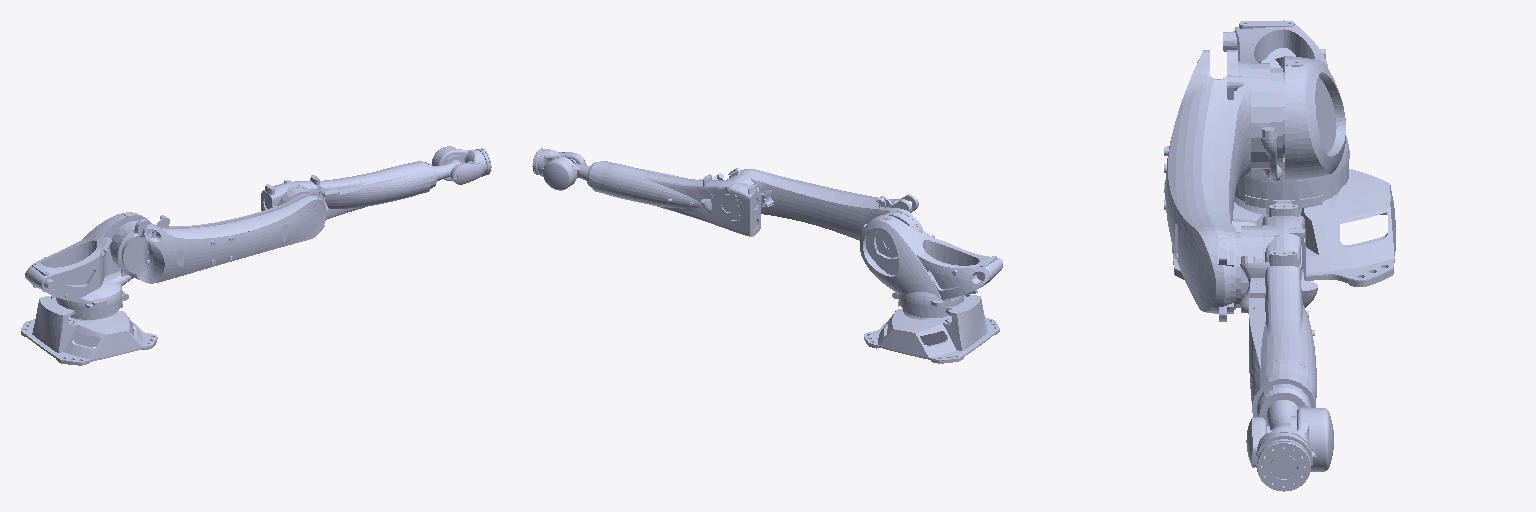
URDF robot description (kuka_kr210_r3100_ultra):
<?xml version="1.0" encoding="utf-8"?>
<!-- This URDF was automatically created by SolidWorks to URDF Exporter! Originally created by [author] ([email redacted]) 
     Commit Version: 1.6.0-1-g15f4949  Build Version: 1.6.7594.29634
     For more information, please see http://wiki.ros.org/sw_urdf_exporter -->
<robot
  name="kuka_kr210_r3100_ultra">
  <link
    name="base_arm">
    <inertial>
      <origin
        xyz="-0.0467922322585019 -2.48330200420791E-06 0.111800800953965"
        rpy="0 0 0" />
      <mass
        value="63.6935825343871" />
      <inertia
        ixx="1.981606913793"
        ixy="-0.000222775612545147"
        ixz="0.129669368793458"
        iyy="2.62338342950469"
        iyz="-0.000477152857139574"
        izz="4.03551831307329" />
    </inertial>
    <visual>
      <origin
        xyz="0 0 0"
        rpy="0 0 0" />
      <geometry>
        <mesh
          filename="package://kuka_kr210_r3100_ultra/meshes/base_arm.STL" />
      </geometry>
      <material
        name="">
        <color
          rgba="0.792156862745098 0.819607843137255 0.933333333333333 1" />
      </material>
    </visual>
    <collision>
      <origin
        xyz="0 0 0"
        rpy="0 0 0" />
      <geometry>
        <mesh
          filename="package://kuka_kr210_r3100_ultra/meshes/base_arm.STL" />
      </geometry>
    </collision>
  </link>

  <link
    name="link_1">
    <inertial>
      <origin
        xyz="-0.015271 0.0092735 0.22938"
        rpy="0 0 0" />
      <mass
        value="74.64" />
      <inertia
        ixx="2.5544"
        ixy="-0.30146"
        ixz="-0.11033"
        iyy="4.6863"
        iyz="-0.090657"
        izz="3.9517" />
    </inertial>
    <visual>
      <origin
        xyz="0 0 0"
        rpy="0 0 0" />
      <geometry>
        <mesh
          filename="package://kuka_kr210_r3100_ultra/meshes/link_1.STL" />
      </geometry>
      <material
        name="">
        <color
          rgba="0.79216 0.81961 0.93333 1" />
      </material>
    </visual>
    <collision>
      <origin
        xyz="0 0 0"
        rpy="0 0 0" />
      <geometry>
        <mesh
          filename="package://kuka_kr210_r3100_ultra/meshes/link_1.STL" />
      </geometry>
    </collision>
  </link>
  <joint
    name="joint_a1"
    type="revolute">
    <origin
      xyz="0 0 0.2256"
      rpy="0 0 0" />
    <parent
      link="base_arm" />
    <child
      link="link_1" />
    <axis
      xyz="0 0 1" />
    <limit
      lower="-3.14"
      upper="3.14"
      effort="100"
      velocity="1" />
  </joint>
  <link
    name="link_2">
    <inertial>
      <origin
        xyz="0.52514 -0.25673 -0.0060316"
        rpy="0 0 0" />
      <mass
        value="112.47" />
      <inertia
        ixx="2.0581"
        ixy="2.2406"
        ixz="0.037882"
        iyy="23.941"
        iyz="-0.012257"
        izz="24.191" />
    </inertial>
    <visual>
      <origin
        xyz="0 0 0"
        rpy="0 0 0" />
      <geometry>
        <mesh
          filename="package://kuka_kr210_r3100_ultra/meshes/link_2.STL" />
      </geometry>
      <material
        name="">
        <color
          rgba="0.79216 0.81961 0.93333 1" />
      </material>
    </visual>
    <collision>
      <origin
        xyz="0 0 0"
        rpy="0 0 0" />
      <geometry>
        <mesh
          filename="package://kuka_kr210_r3100_ultra/meshes/link_2.STL" />
      </geometry>
    </collision>
  </link>
  <joint
    name="joint_a2"
    type="revolute">
    <origin
      xyz="0.35 0.01 0.4494"
      rpy="0 0 0" />
    <parent
      link="link_1" />
    <child
      link="link_2" />
    <axis
      xyz="0 -1 0" />
    <limit
      lower="-3.14"
      upper="3.14"
      effort="100"
      velocity="1" />
  </joint>
  <link
    name="link_3">
    <inertial>
      <origin
        xyz="0.40596 0.14888 -0.027566"
        rpy="0 0 0" />
      <mass
        value="71.698" />
      <inertia
        ixx="0.74839"
        ixy="-0.43326"
        ixz="0.30488"
        iyy="11.857"
        iyz="0.037727"
        izz="11.701" />
    </inertial>
    <visual>
      <origin
        xyz="0 0 0"
        rpy="0 0 0" />
      <geometry>
        <mesh
          filename="package://kuka_kr210_r3100_ultra/meshes/link_3.STL" />
      </geometry>
      <material
        name="">
        <color
          rgba="0.79216 0.81961 0.93333 1" />
      </material>
    </visual>
    <collision>
      <origin
        xyz="0 0 0"
        rpy="0 0 0" />
      <geometry>
        <mesh
          filename="package://kuka_kr210_r3100_ultra/meshes/link_3.STL" />
      </geometry>
    </collision>
  </link>
  <joint
    name="joint_a3"
    type="revolute">
    <origin
      xyz="1.35 -0.178 0"
      rpy="0 0 0" />
    <parent
      link="link_2" />
    <child
      link="link_3" />
    <axis
      xyz="0 1 0" />
    <limit
      lower="-3.14"
      upper="3.14"
      effort="100"
      velocity="1" />
  </joint>
  <link
    name="link_4">
    <inertial>
      <origin
        xyz="0.13208 0.0013537 -5.4292E-06"
        rpy="0 0 0" />
      <mass
        value="3.4928" />
      <inertia
        ixx="0.0085457"
        ixy="-0.00080274"
        ixz="6.414E-08"
        iyy="0.037366"
        iyz="1.2283E-07"
        izz="0.036882" />
    </inertial>
    <visual>
      <origin
        xyz="0 0 0"
        rpy="0 0 0" />
      <geometry>
        <mesh
          filename="package://kuka_kr210_r3100_ultra/meshes/link_4.STL" />
      </geometry>
      <material
        name="">
        <color
          rgba="0.79216 0.81961 0.93333 1" />
      </material>
    </visual>
    <collision>
      <origin
        xyz="0 0 0"
        rpy="0 0 0" />
      <geometry>
        <mesh
          filename="package://kuka_kr210_r3100_ultra/meshes/link_4.STL" />
      </geometry>
    </collision>
  </link>
  <joint
    name="joint_a4"
    type="revolute">
    <origin
      xyz="1.1445 0.168 -0.041"
      rpy="0 0 0" />
    <parent
      link="link_3" />
    <child
      link="link_4" />
    <axis
      xyz="-1 0 0" />
    <limit
      lower="-3.14"
      upper="3.14"
      effort="100"
      velocity="1" />
  </joint>
  <link
    name="link_5">
    <inertial>
      <origin
        xyz="0.05431 0.003334 -1.9524E-05"
        rpy="0 0 0" />
      <mass
        value="11.495" />
      <inertia
        ixx="0.11957"
        ixy="0.027144"
        ixz="1.9336E-05"
        iyy="0.11876"
        iyz="1.3862E-05"
        izz="0.17596" />
    </inertial>
    <visual>
      <origin
        xyz="0 0 0"
        rpy="0 0 0" />
      <geometry>
        <mesh
          filename="package://kuka_kr210_r3100_ultra/meshes/link_5.STL" />
      </geometry>
      <material
        name="">
        <color
          rgba="0.79216 0.81961 0.93333 1" />
      </material>
    </visual>
    <collision>
      <origin
        xyz="0 0 0"
        rpy="0 0 0" />
      <geometry>
        <mesh
          filename="package://kuka_kr210_r3100_ultra/meshes/link_5.STL" />
      </geometry>
    </collision>
  </link>
  <joint
    name="joint_a5"
    type="revolute">
    <origin
      xyz="0.2555 0.0345 0"
      rpy="0 0 0" />
    <parent
      link="link_4" />
    <child
      link="link_5" />
    <axis
      xyz="0 1 0" />
    <limit
      lower="-3.14"
      upper="3.14"
      effort="100"
      velocity="1" />
  </joint>
  <link
    name="link_6">
    <inertial>
      <origin
        xyz="0.0051257 1.2397E-05 -3.8679E-05"
        rpy="0 0 0" />
      <mass
        value="0.64081" />
      <inertia
        ixx="0.0038456"
        ixy="1.5725E-07"
        ixz="-9.686E-08"
        iyy="0.0019693"
        iyz="3.2586E-08"
        izz="0.0019665" />
    </inertial>
    <visual>
      <origin
        xyz="0 0 0"
        rpy="0 0 0" />
      <geometry>
        <mesh
          filename="package://kuka_kr210_r3100_ultra/meshes/link_6.STL" />
      </geometry>
      <material
        name="">
        <color
          rgba="0.79216 0.81961 0.93333 1" />
      </material>
    </visual>
    <collision>
      <origin
        xyz="0 0 0"
        rpy="0 0 0" />
      <geometry>
        <mesh
          filename="package://kuka_kr210_r3100_ultra/meshes/link_6.STL" />
      </geometry>
    </collision>
  </link>
  <joint
    name="joint_a6"
    type="revolute">
    <origin
      xyz="0.221 -0.0345 0"
      rpy="0 0 0" />
    <parent
      link="link_5" />
    <child
      link="link_6" />
    <axis
      xyz="-1 0 0" />
    <limit
      lower="-3.14"
      upper="3.14"
      effort="100"
      velocity="1" />
  </joint>
  <link
    name="link_flange">
    <inertial>
      <origin
        xyz="-0.005 -5.7304E-16 -1.5543E-15"
        rpy="0 0 0" />
      <mass
        value="0.07854" />
      <inertia
        ixx="9.8175E-05"
        ixy="-1.9014E-21"
        ixz="1.3703E-20"
        iyy="4.9742E-05"
        iyz="3.0859E-37"
        izz="4.9742E-05" />
    </inertial>
    <visual>
      <origin
        xyz="0 0 0"
        rpy="0 0 0" />
      <geometry>
        <mesh
          filename="package://kuka_kr210_r3100_ultra/meshes/link_flange.STL" />
      </geometry>
      <material
        name="">
        <color
          rgba="0.79216 0.81961 0.93333 1" />
      </material>
    </visual>
    <collision>
      <origin
        xyz="0 0 0"
        rpy="0 0 0" />
      <geometry>
        <mesh
          filename="package://kuka_kr210_r3100_ultra/meshes/link_flange.STL" />
      </geometry>
    </collision>
  </link>
  <joint
    name="joint_flange"
    type="fixed">
    <origin
      xyz="0.019 0 0"
      rpy="0 0 0" />
    <parent
      link="link_6" />
    <child
      link="link_flange" />
    <axis
      xyz="0 0 0" />
  </joint>
</robot>

--- What the picture shows (computed from the rendered views, not written in the file) ---
The picture shows the robot from 3 angles, left to right: view 1: azimuth 30°, elevation 25°; view 2: azimuth 150°, elevation 25°; view 3: azimuth 270°, elevation 25°; orthographic projection.
Model kuka_kr210_r3100_ultra with 8 links and 7 joints (6 revolute, 1 fixed), rooted at base_arm, posed every joint at zero.
Visible links, largest first — view 1: link_2, link_1, base_arm, link_3, link_5; view 2: link_1, link_3, link_2, base_arm, link_5; view 3: link_2, link_1, link_3, base_arm, link_5, link_6, link_4.
Boxes of the visible links, box(x1,y1,x2,y2) form: link_2: box(110, 191, 326, 283); link_1: box(25, 212, 148, 319); base_arm: box(21, 295, 157, 365); link_3: box(261, 161, 433, 219); link_5: box(432, 146, 486, 184); link_1: box(860, 215, 1002, 317); link_3: box(589, 161, 761, 236); link_2: box(728, 168, 922, 248); base_arm: box(864, 295, 999, 363); link_5: box(537, 149, 586, 190); link_2: box(1164, 50, 1284, 321); link_1: box(1223, 20, 1349, 208); link_3: box(1236, 204, 1317, 417); base_arm: box(1172, 169, 1395, 286); link_5: box(1246, 407, 1333, 471); link_6: box(1257, 439, 1310, 491); link_4: box(1257, 387, 1310, 431).
Bounding box of the posed robot: 3.86 × 0.857 × 0.9388 m (x, y, z).
8 mesh visuals loaded from 8 distinct referenced files (8 binary STL).